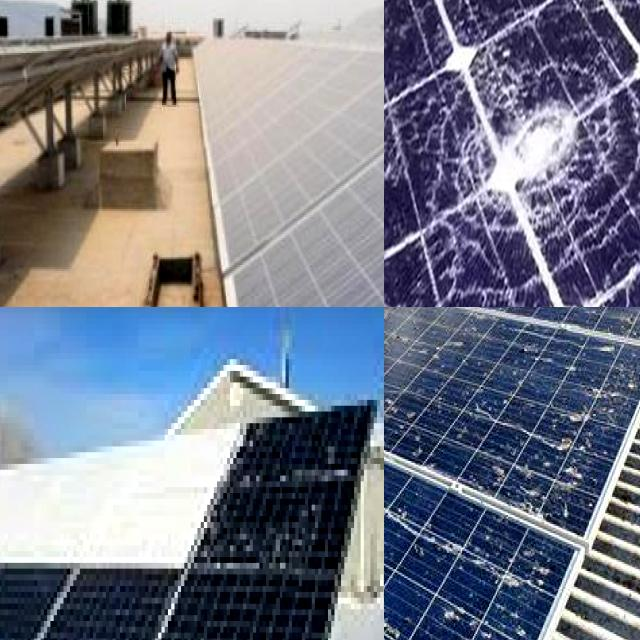bird: (481, 540, 559, 600), (532, 380, 596, 450), (393, 503, 453, 570), (492, 446, 547, 512), (384, 421, 432, 485), (600, 345, 640, 410), (416, 320, 474, 361), (384, 364, 414, 424), (384, 555, 405, 630), (384, 492, 408, 550), (384, 475, 403, 532), (384, 609, 416, 640)
dust: (222, 42, 384, 197)
hotspot: (462, 66, 619, 227)
panel: (133, 418, 243, 577), (0, 442, 114, 572), (280, 452, 336, 578), (0, 473, 56, 575)
